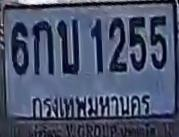1: (90, 18, 102, 73)
2: (109, 18, 126, 71)
5: (129, 16, 146, 70), (150, 15, 166, 69)
6: (11, 21, 28, 74)
A01: (32, 20, 53, 74)
A26: (57, 18, 78, 74)
BKK: (29, 89, 154, 120)
